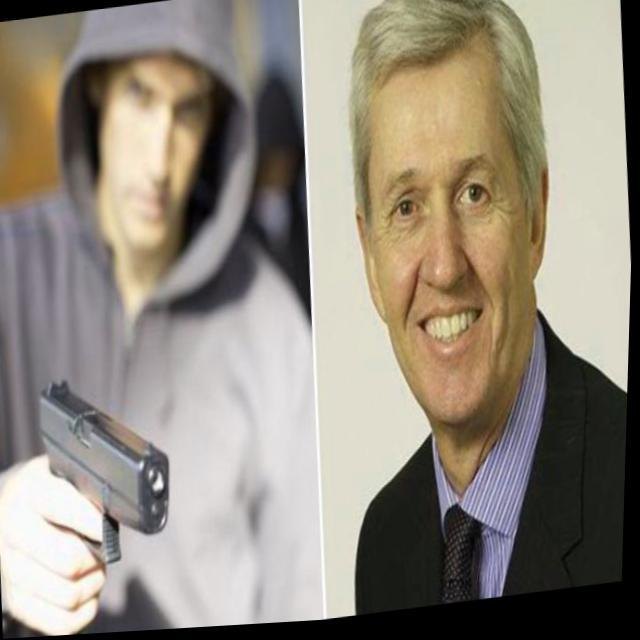weapon: (35, 348, 182, 576)
